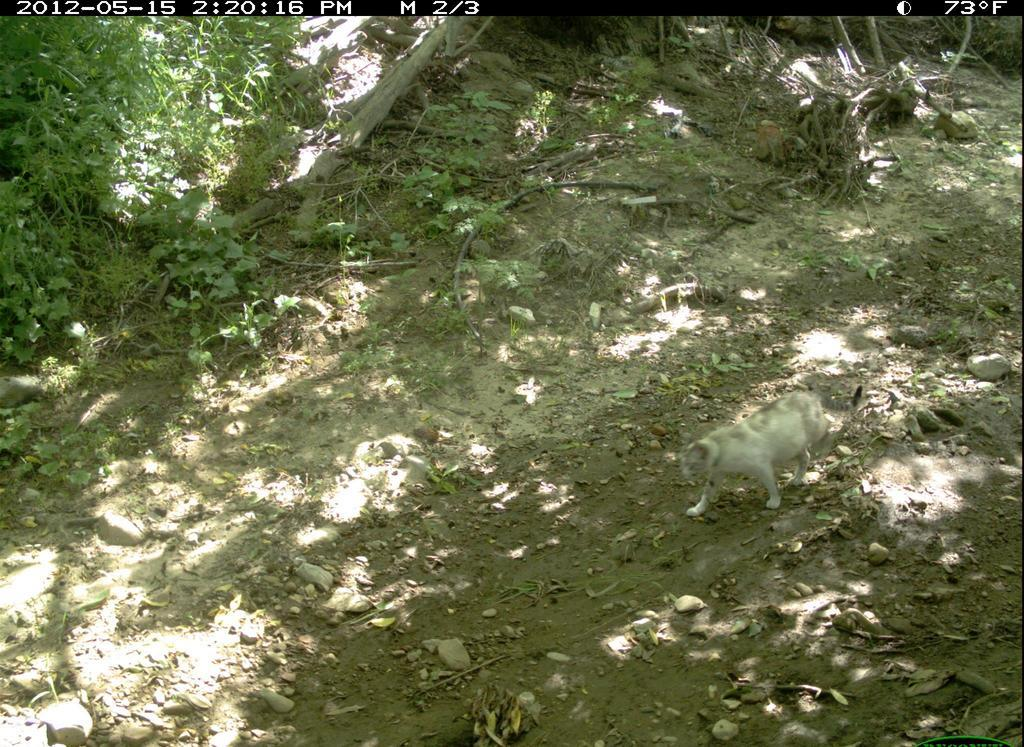cat: (670, 373, 876, 527)
